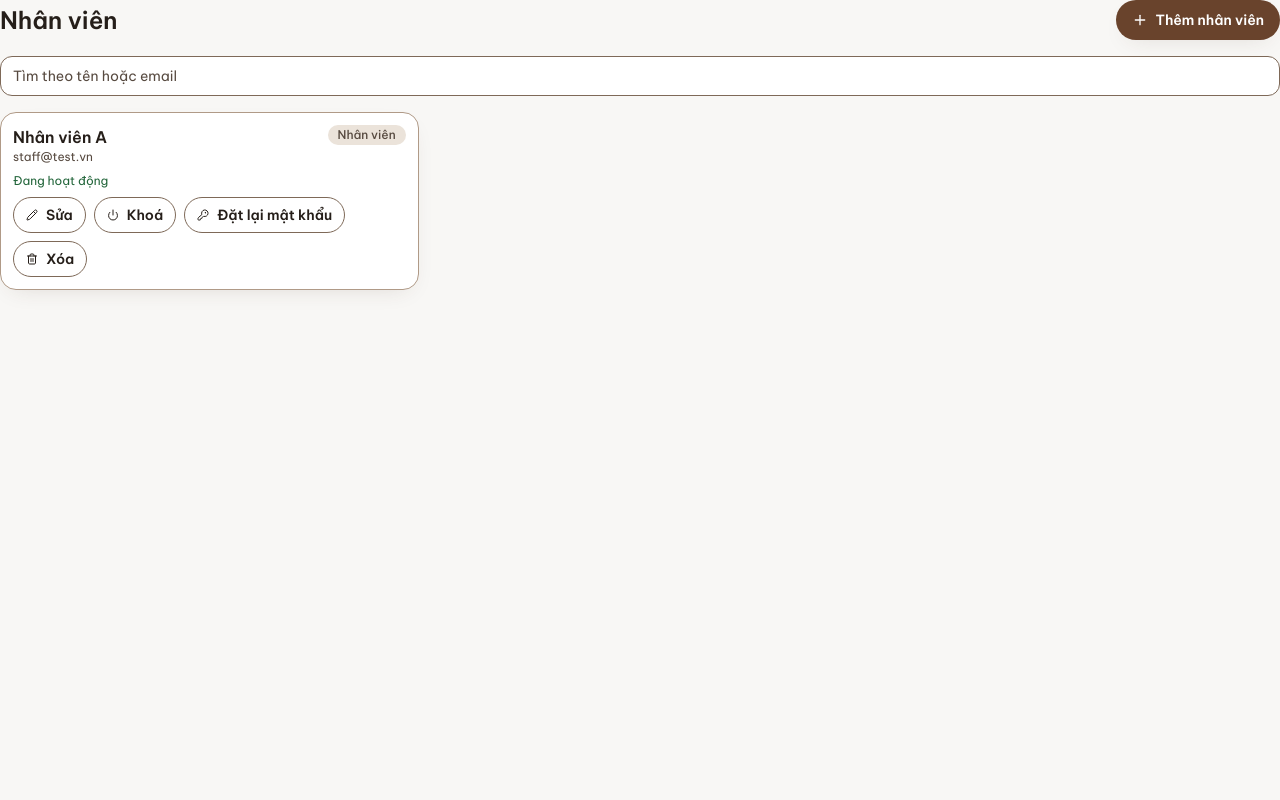
Test: accounts, toppings and compact receipts › cancels or confirms employee deletion by name
Later steps or results of the test are not shown.
Click the button "Xóa".
click(50, 259)  # box [13, 241, 87, 277]
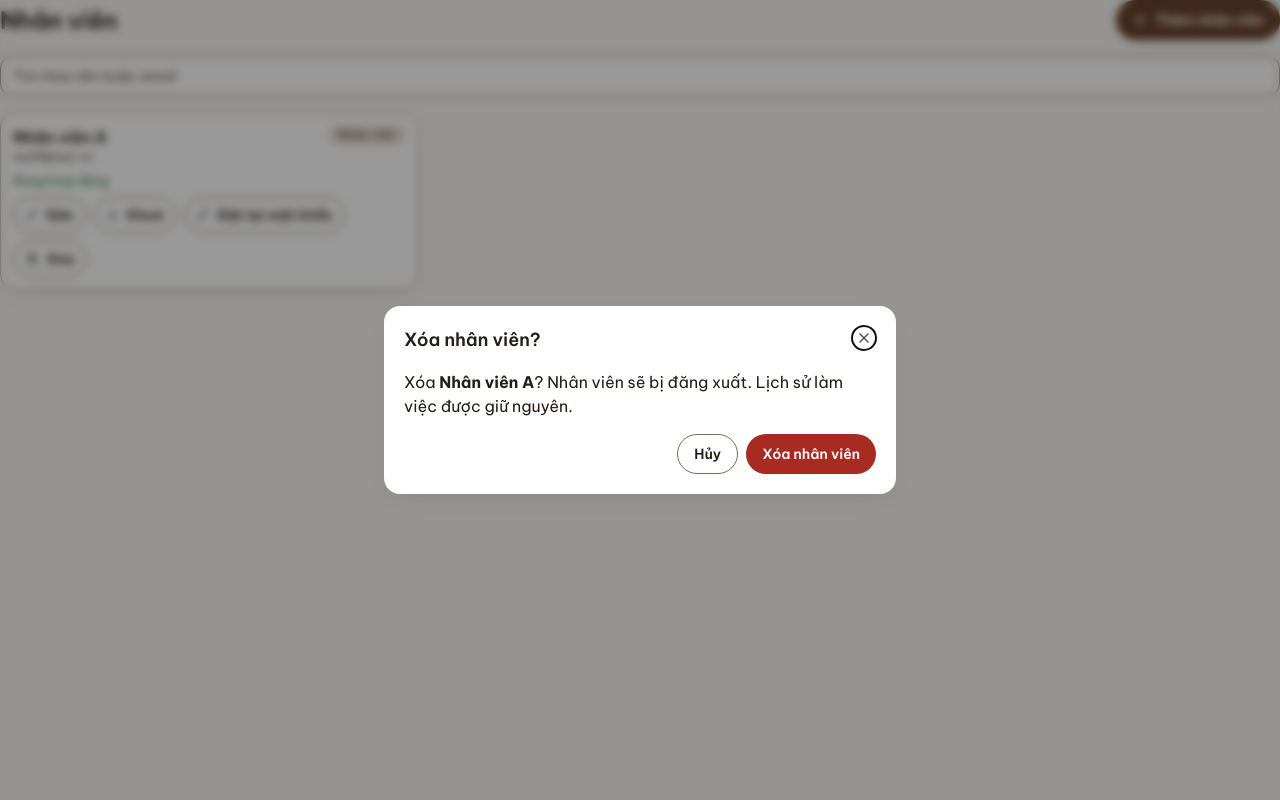
Check: the dialog "Xóa nhân viên?" is shown, box [384, 306, 896, 494]
Check: the text "Nhân viên A" is shown, box [439, 372, 534, 392]
